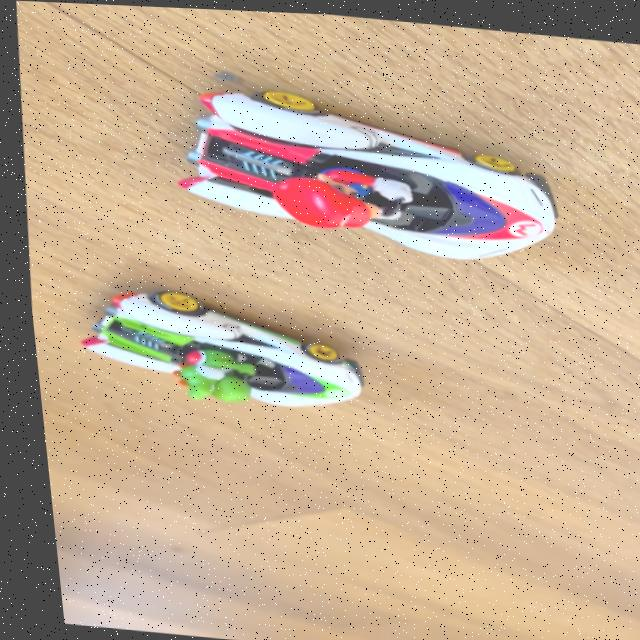mario: (185, 88, 579, 278)
yoshi: (96, 286, 365, 425)
